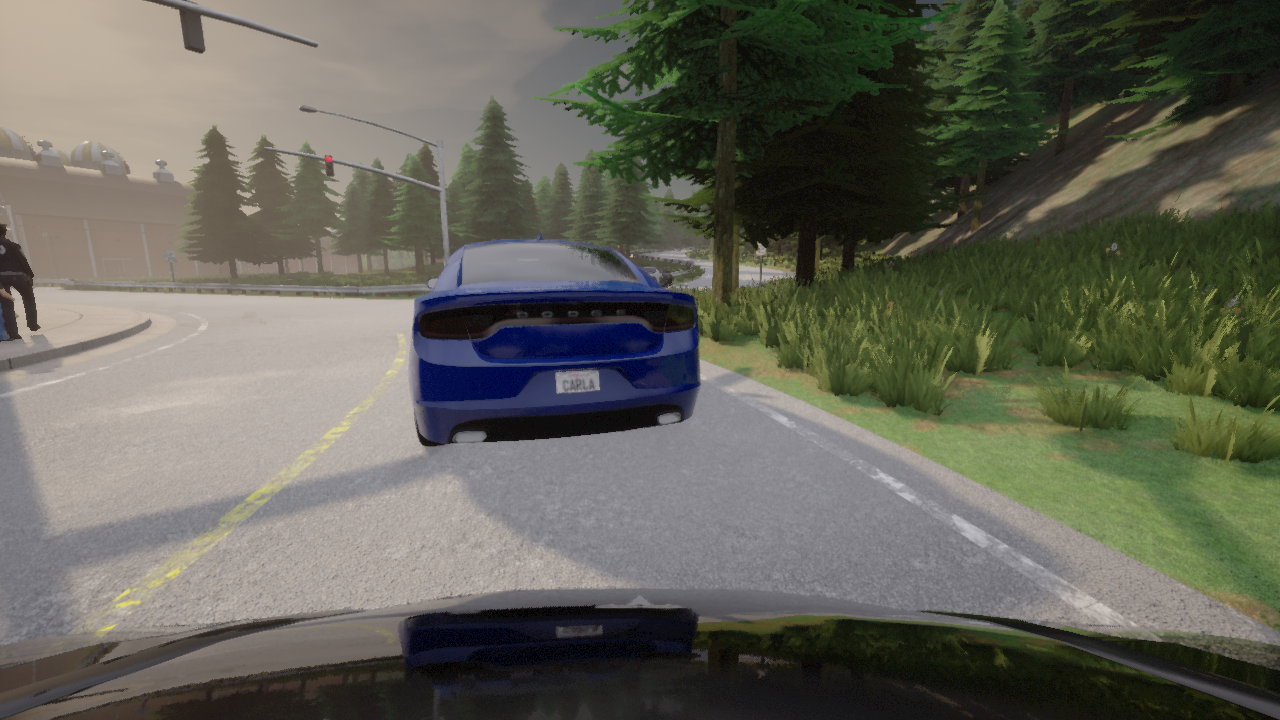cyclist: (0, 588, 1279, 719), (409, 232, 700, 446), (636, 264, 672, 288), (308, 271, 314, 272), (275, 271, 278, 273)
pedestrian: (0, 223, 41, 339)
